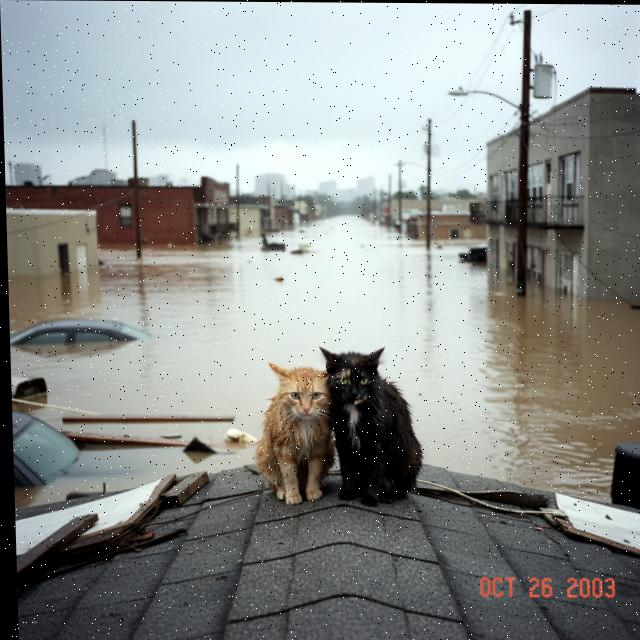cat: (317, 340, 438, 519), (246, 357, 343, 517)
